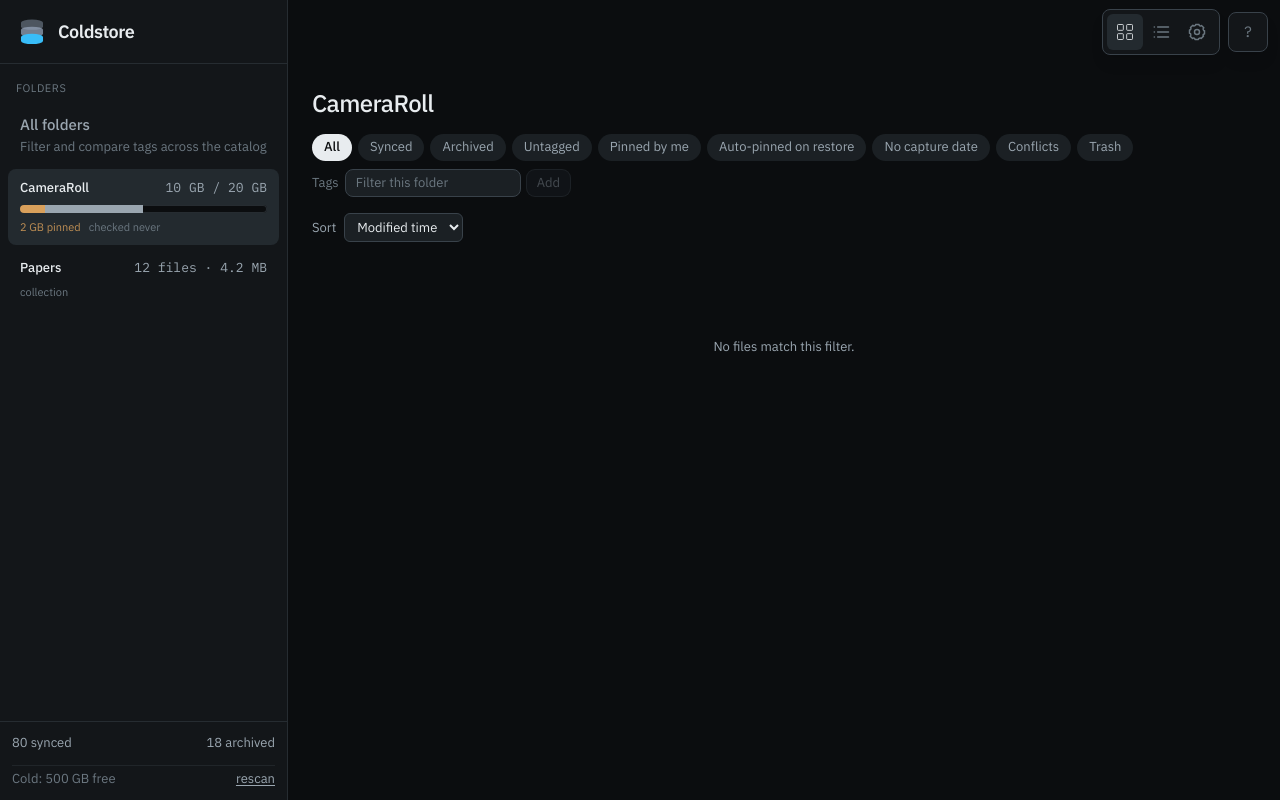
Test: App › should not offer rescan when a collection is selected
The width and height of the screenshot is (1280, 800).
Check: the button "rescan" is shown, box [236,770,275,788]
Click the button "Papers 12 files · 4.2 MB collection": (41, 268) [8,249,279,310]
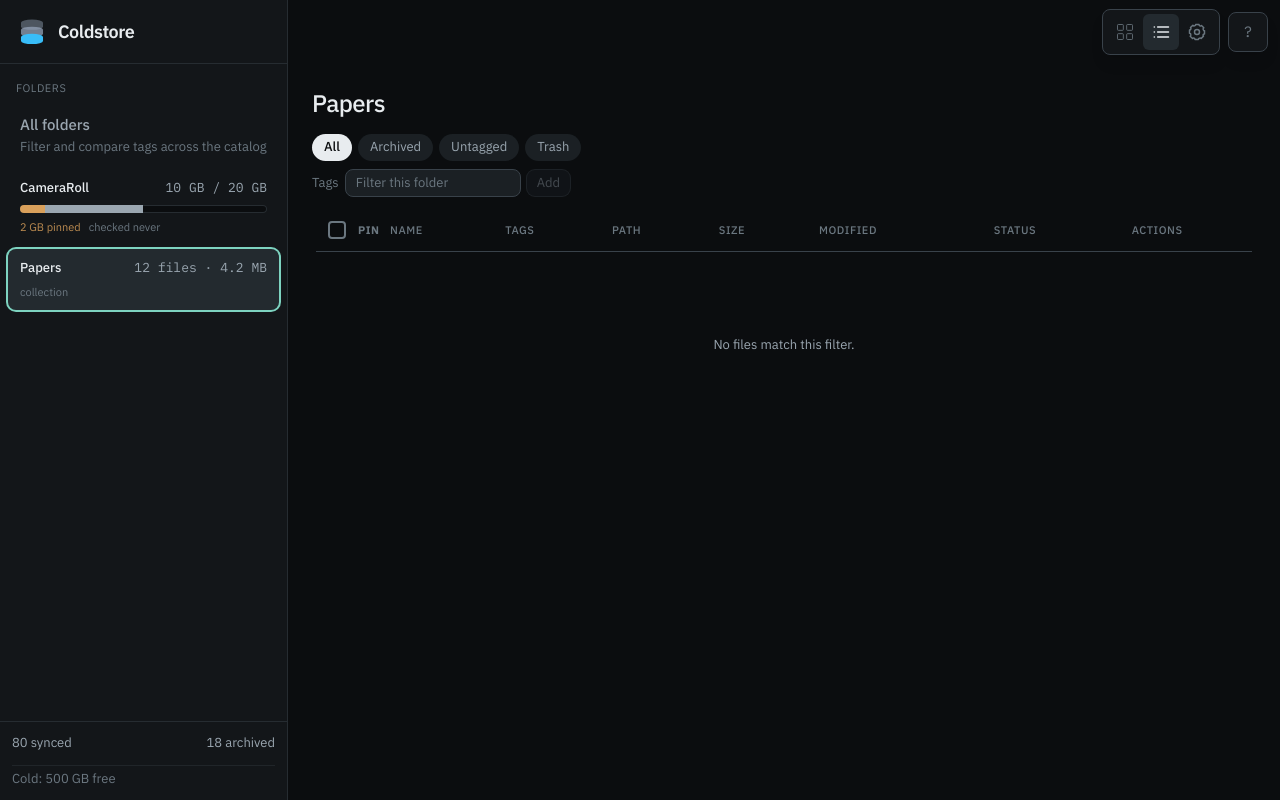
Check: the button "rescan" is gone
Check: the tab "Auto-pinned on restore" is gone
